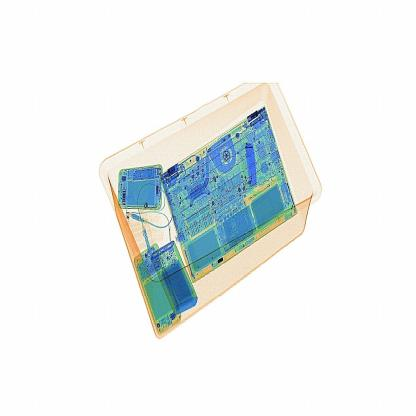wrench: (238, 129, 263, 198)
